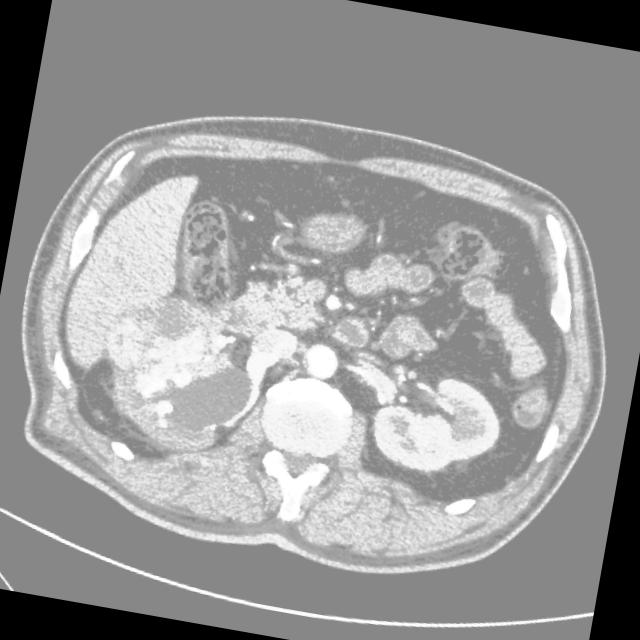TUMOR: (7, 204, 582, 500)
